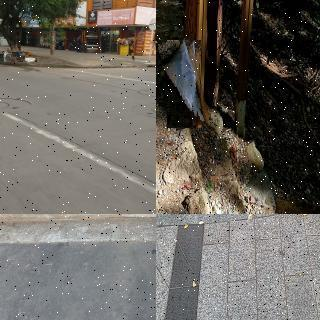Garbage: (163, 39, 205, 129), (11, 52, 25, 62), (6, 55, 16, 62), (23, 57, 37, 62), (0, 53, 4, 61)
